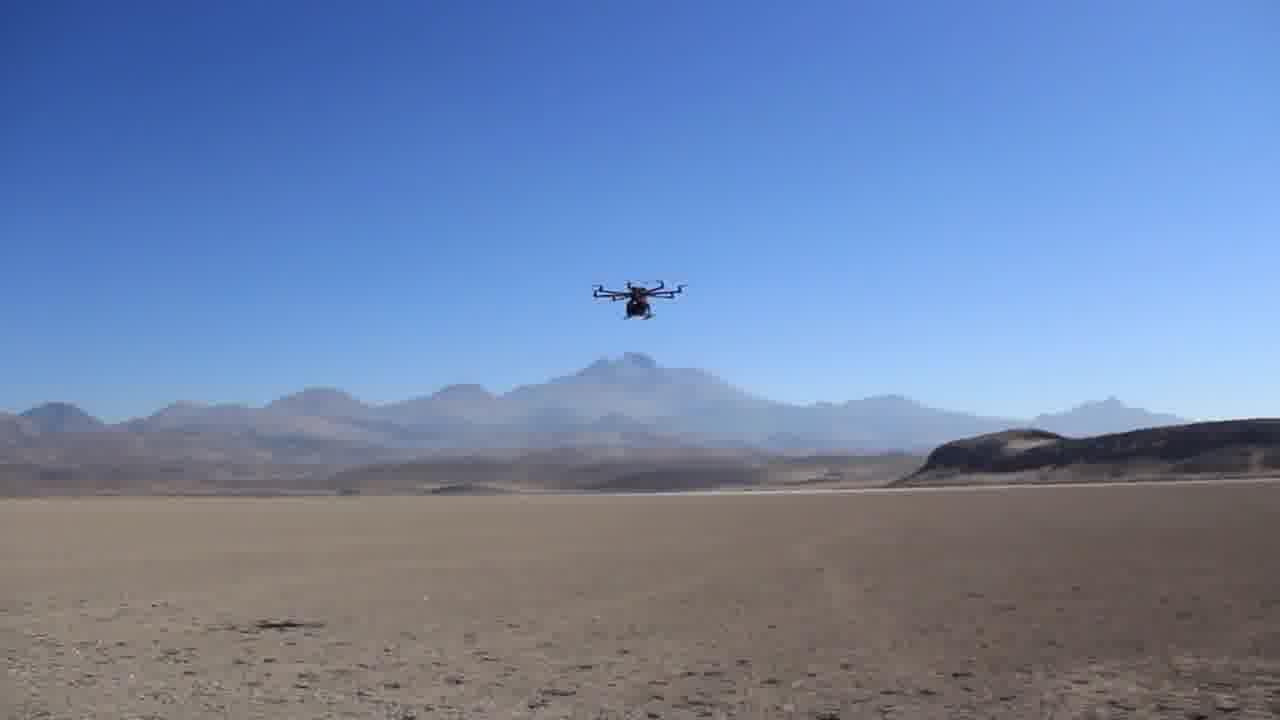drone: (587, 269, 691, 324)
